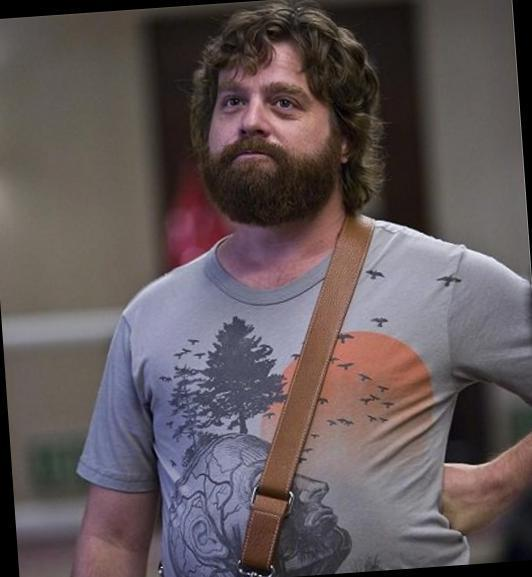Sober: (207, 58, 327, 194)
